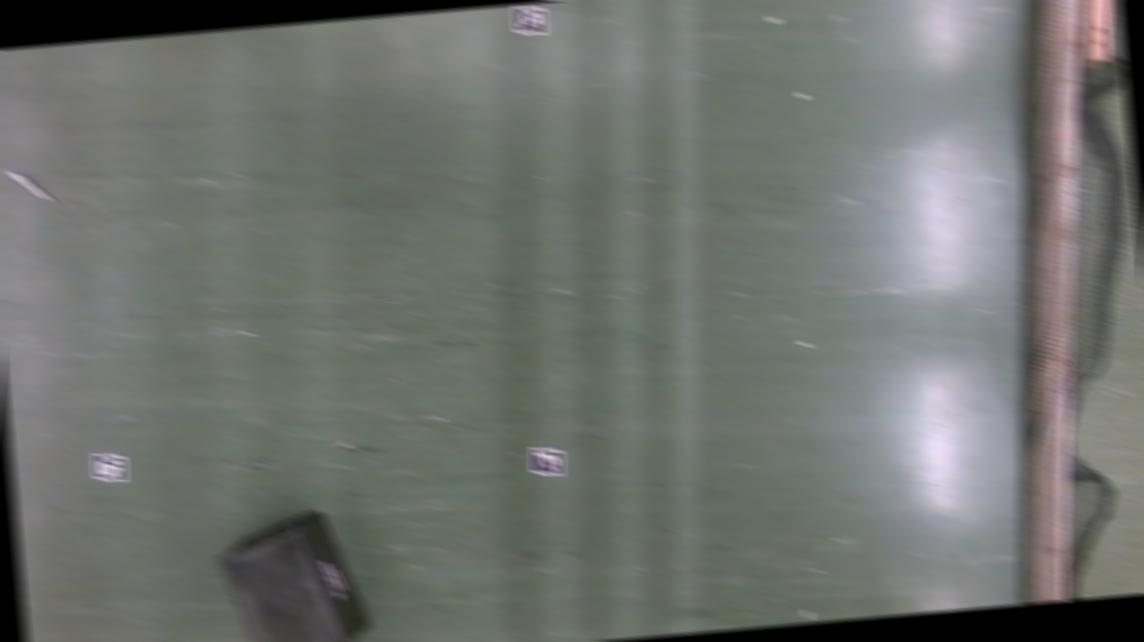probes: (8, 166, 54, 206)
rako: (212, 503, 377, 642)
